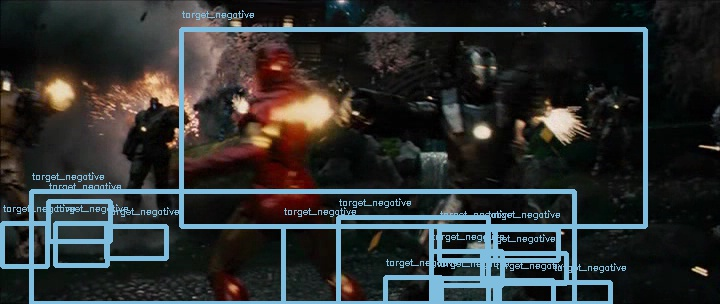person: (253, 50, 290, 85), (252, 50, 289, 85), (254, 50, 291, 85), (253, 49, 290, 84), (253, 51, 290, 86)
target_negative: (264, 85, 542, 255), (377, 187, 557, 251), (557, 72, 623, 216), (83, 268, 537, 285), (600, 142, 609, 263), (534, 238, 547, 254)
